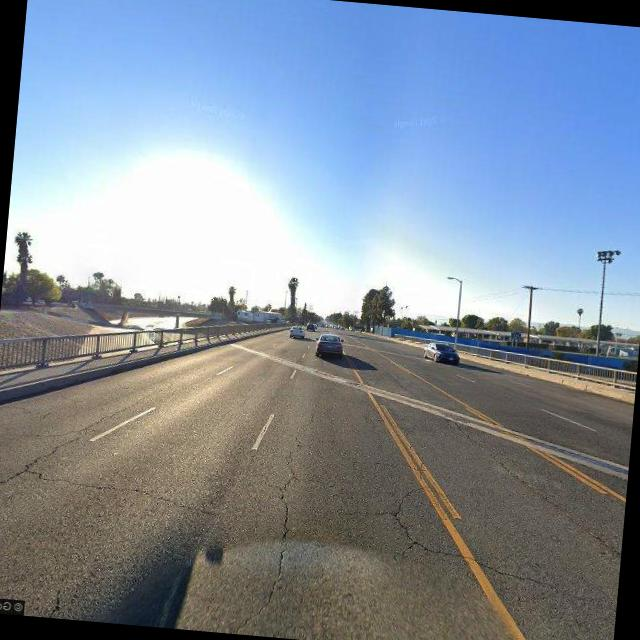crack: (0, 365, 178, 508), (371, 489, 555, 588), (242, 410, 316, 636), (18, 462, 228, 518), (447, 417, 485, 448)
